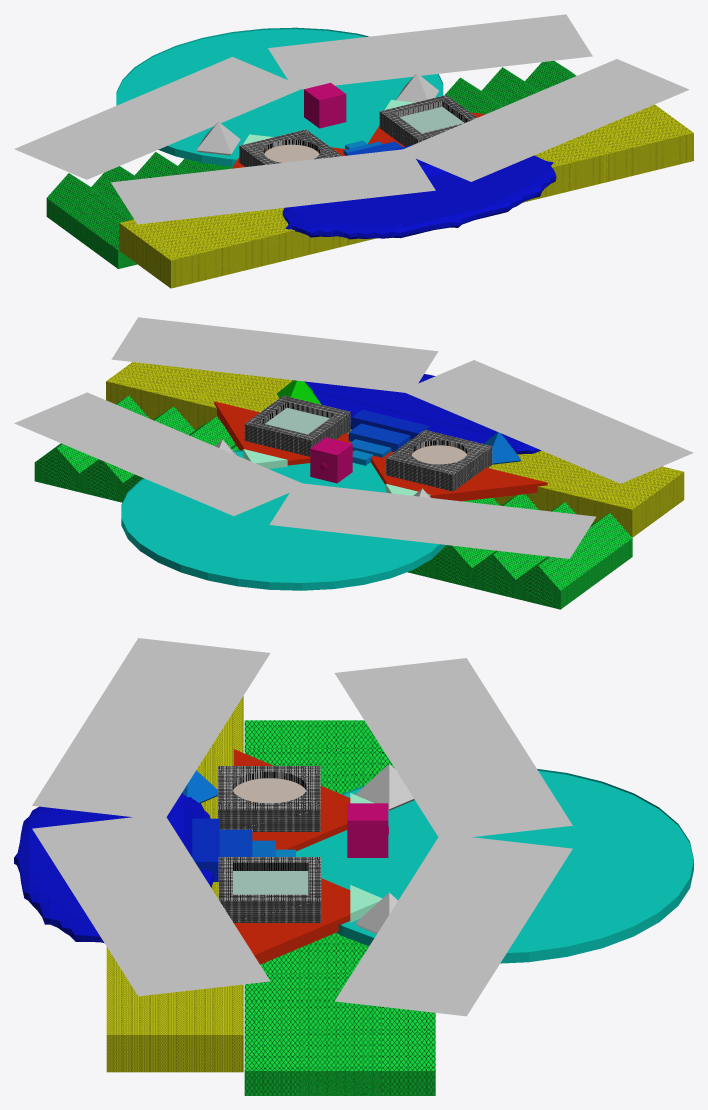
File: scene_game(out).obj
3 views of the same model, one above another, from view 1: azimuth 30°, elevation 25°; view 2: azimuth 150°, elevation 25°; view 3: azimuth 270°, elevation 25° (orthographic). The views are drawn at different scales.
Visible parts, largest first — view 1: Cube_Cube.015, sky_Circle.001, rightbottom_Plane.003, lefttop_Plane.006, leftbottom_Plane.004, righttop_Plane.005, water_Circle, Cube.001, portalright_Cube.004, portalleft_Cube.002, cube_Cube.014, portalrightback_Plane.008 (+3 smaller); view 2: sky_Circle.001, Cube.001, Cube_Cube.015, lefttop_Plane.006, leftbottom_Plane.004, righttop_Plane.005, rightbottom_Plane.003, water_Circle, portalleft_Cube.002, portalright_Cube.004, stoneleft_Plane.001, stoneright_Plane.002 (+8 smaller); view 3: Cube.001, sky_Circle.001, leftbottom_Plane.004, righttop_Plane.005, rightbottom_Plane.003, lefttop_Plane.006, Cube_Cube.015, water_Circle, portalleft_Cube.002, portalright_Cube.004, stoneright_Plane.002, stoneleft_Plane.001 (+8 smaller).
Part boxes in pixels (bbox=[...]): Cube_Cube.015: bbox=[119, 104, 693, 288]; sky_Circle.001: bbox=[116, 27, 443, 166]; rightbottom_Plane.003: bbox=[399, 59, 689, 181]; lefttop_Plane.006: bbox=[14, 57, 304, 179]; leftbottom_Plane.004: bbox=[111, 149, 435, 224]; righttop_Plane.005: bbox=[268, 14, 592, 89]; water_Circle: bbox=[282, 155, 556, 239]; Cube.001: bbox=[46, 61, 576, 268]; portalright_Cube.004: bbox=[379, 95, 477, 146]; portalleft_Cube.002: bbox=[239, 129, 342, 166]; cube_Cube.014: bbox=[304, 82, 346, 128]; portalrightback_Plane.008: bbox=[400, 106, 463, 133]; sky_Circle.001: bbox=[121, 450, 444, 590]; Cube.001: bbox=[34, 395, 632, 609]; Cube_Cube.015: bbox=[106, 362, 684, 537]; lefttop_Plane.006: bbox=[269, 483, 595, 558]; leftbottom_Plane.004: bbox=[401, 360, 693, 483]; righttop_Plane.005: bbox=[14, 392, 306, 515]; rightbottom_Plane.003: bbox=[111, 317, 438, 392]; water_Circle: bbox=[292, 374, 541, 454]; portalleft_Cube.002: bbox=[386, 430, 492, 491]; portalright_Cube.004: bbox=[244, 395, 350, 456]; stoneleft_Plane.001: bbox=[371, 451, 547, 501]; stoneright_Plane.002: bbox=[214, 401, 353, 465]; Cube.001: bbox=[244, 720, 435, 1095]; sky_Circle.001: bbox=[296, 769, 693, 963]; leftbottom_Plane.004: bbox=[32, 638, 270, 820]; righttop_Plane.005: bbox=[335, 833, 572, 1016]; rightbottom_Plane.003: bbox=[32, 817, 269, 996]; lefttop_Plane.006: bbox=[334, 658, 572, 836]; Cube_Cube.015: bbox=[106, 696, 243, 1072]; water_Circle: bbox=[14, 793, 214, 943]; portalleft_Cube.002: bbox=[218, 766, 320, 831]; portalright_Cube.004: bbox=[218, 857, 321, 922]; stoneright_Plane.002: bbox=[234, 878, 350, 964]; stoneleft_Plane.001: bbox=[233, 749, 350, 851].
Bounding box in the file's own units: 12.38 × 1.76 × 9.93.
40 materials, 20 textured.
